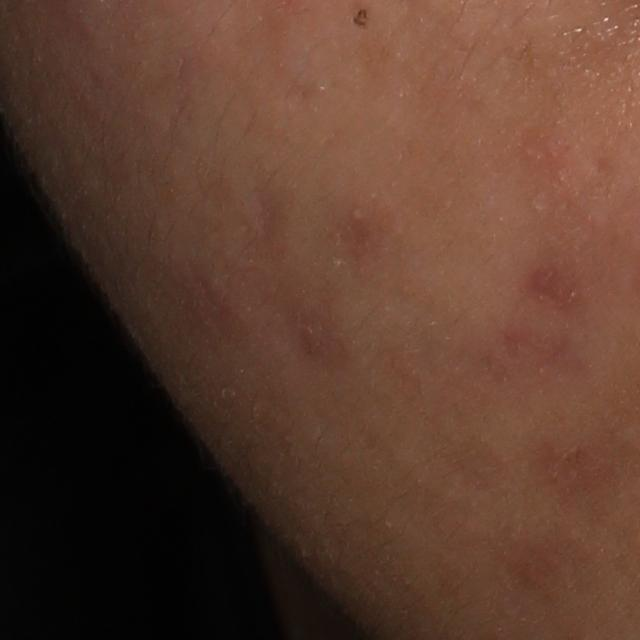comedo: (349, 205, 367, 224)
nevus: (351, 6, 371, 32)
